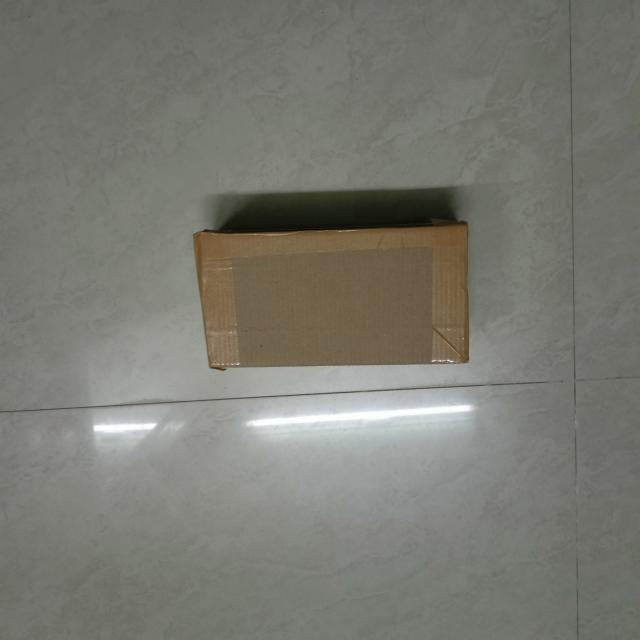box: (193, 222, 470, 370)
